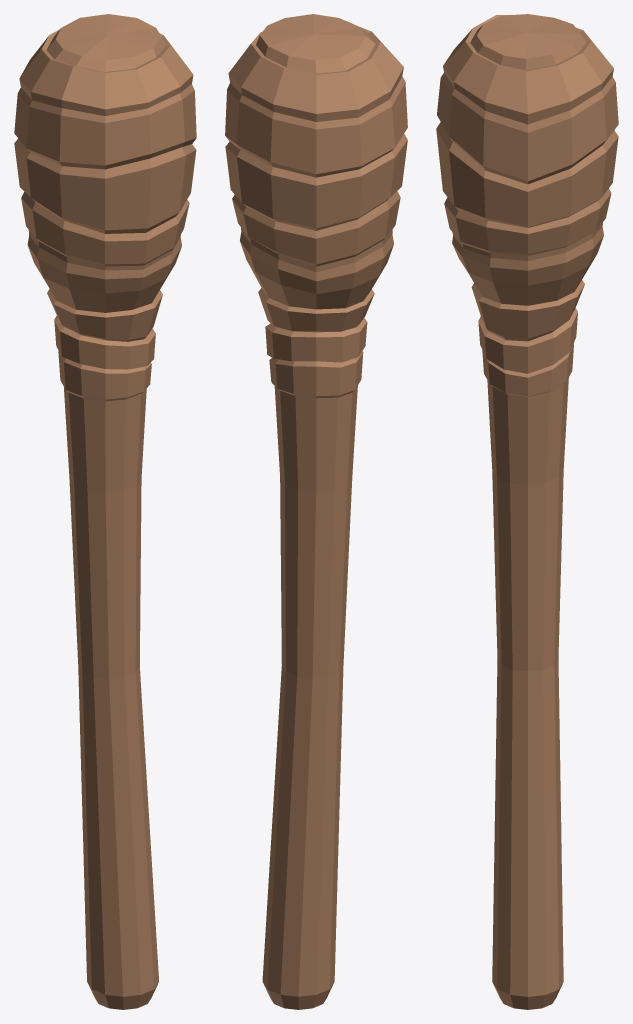
The model's file is Torch.glb.
The picture shows the model from 3 angles, left to right: view 1: azimuth 30°, elevation 25°; view 2: azimuth 150°, elevation 25°; view 3: azimuth 270°, elevation 25°; orthographic projection.
Parts seen in each view (by area): view 1: Torch; view 2: Torch; view 3: Torch.
Part boxes in pixels (left/top/right/bottom): Torch: left=14, top=14, right=196, bottom=1009; Torch: left=225, top=14, right=407, bottom=1009; Torch: left=436, top=14, right=618, bottom=1009.
Size of the model in its own units: 14.52 by 85.36 by 14.74.
